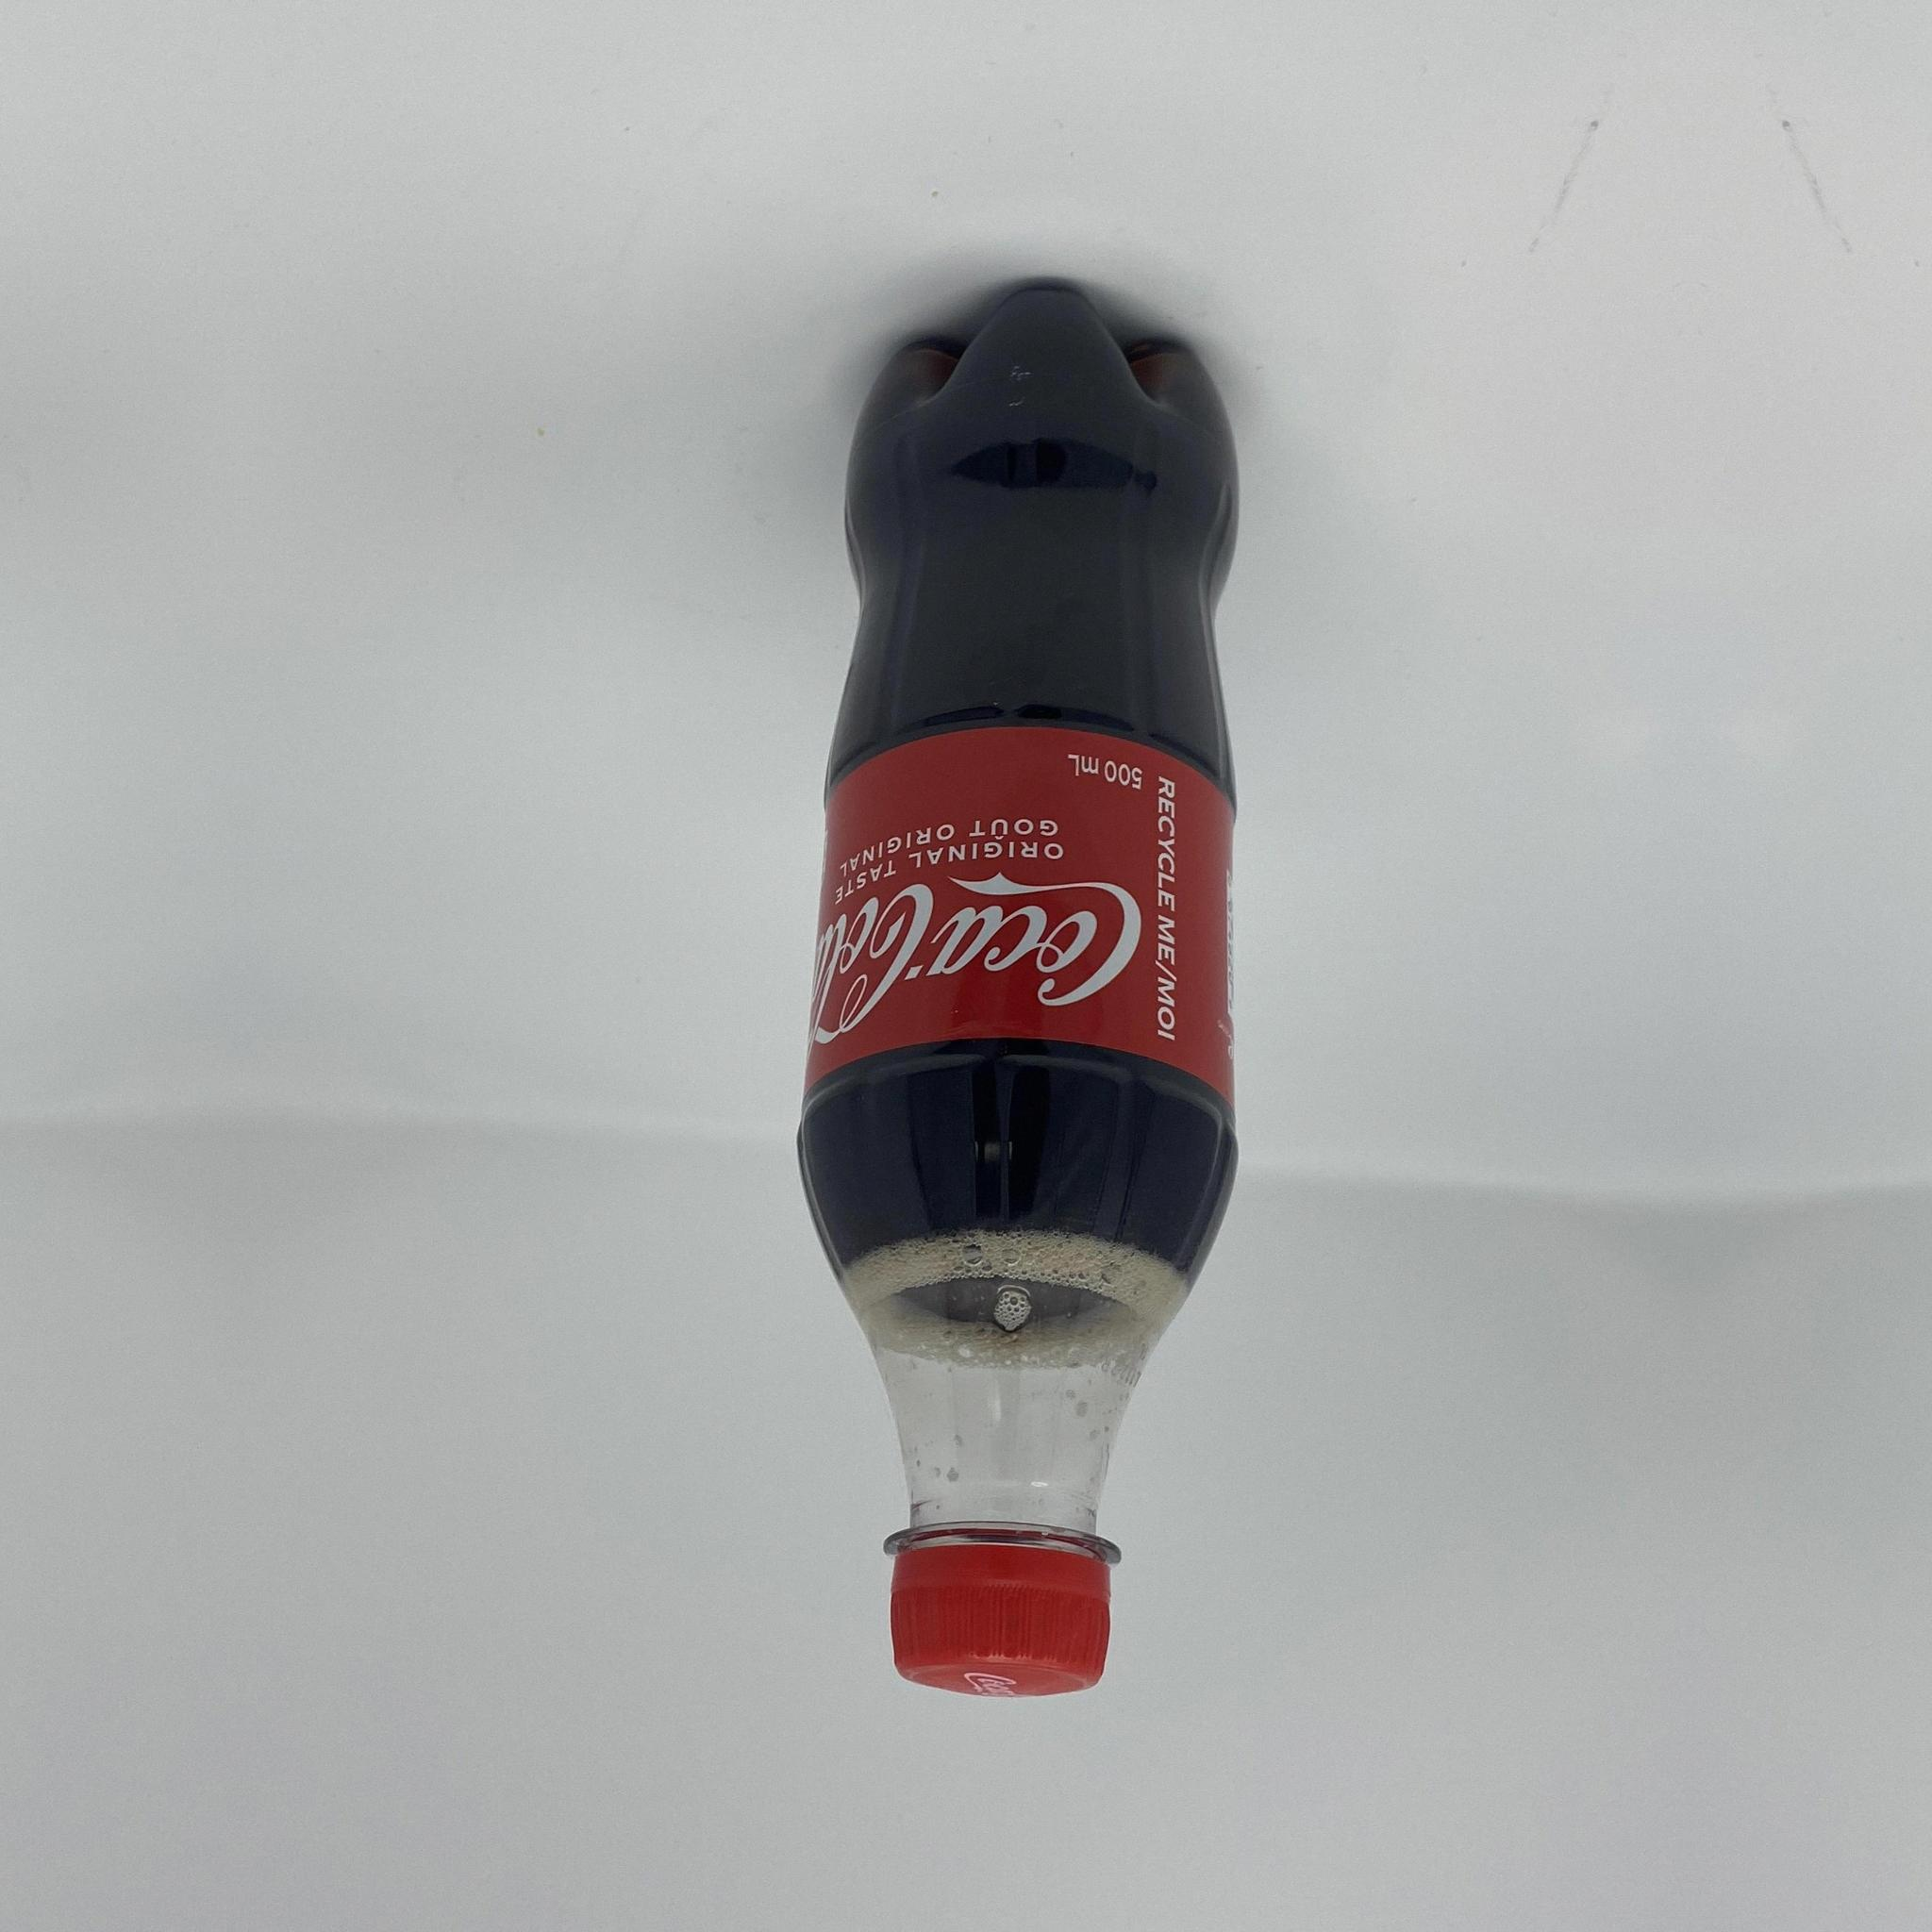PET: (794, 276, 1242, 1697)
cocacola: (794, 276, 1242, 1697)
plastic: (794, 276, 1242, 1697)
soft-drink: (794, 276, 1242, 1697)
